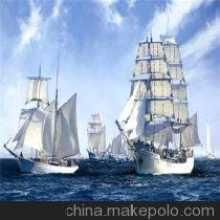fanchuan: (125, 30, 207, 177), (13, 58, 85, 175), (85, 110, 130, 171)
